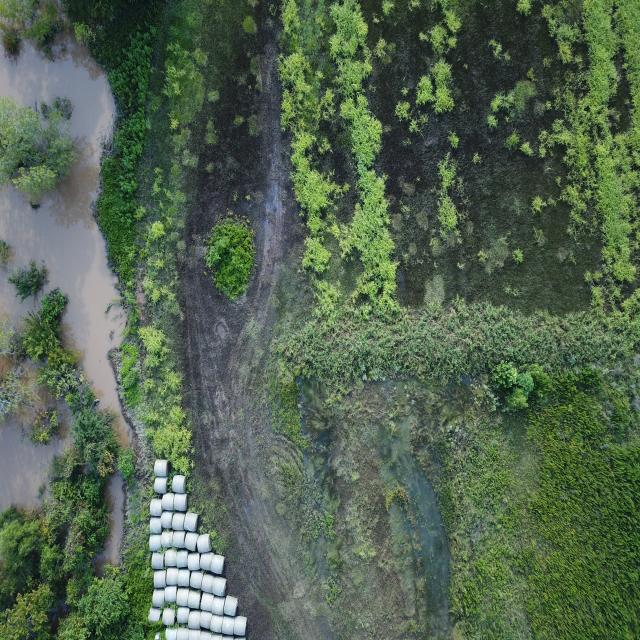fire: (0, 33, 132, 447), (0, 401, 70, 509), (95, 473, 124, 568)
